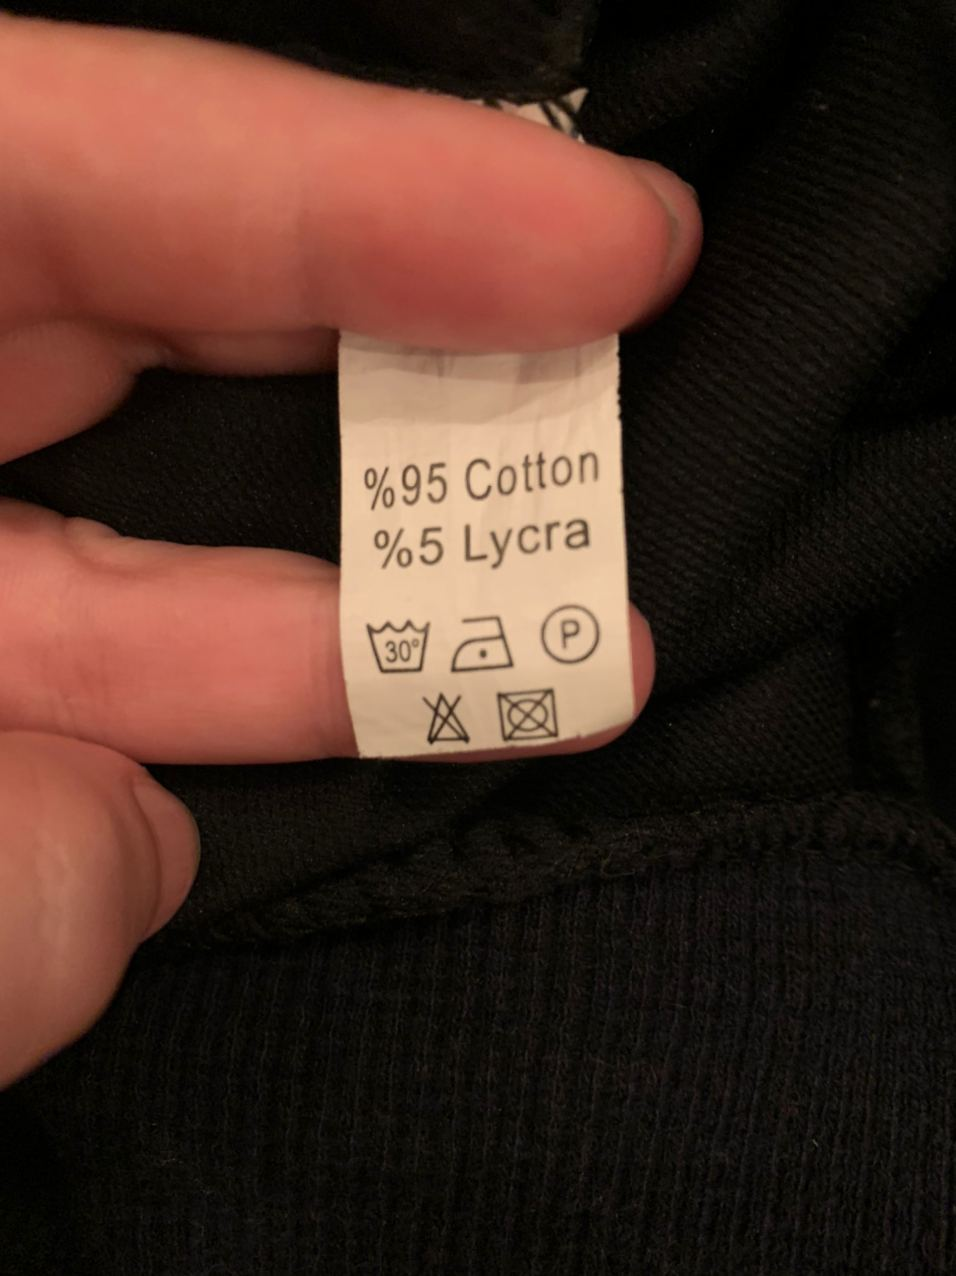do_not_bleach: (419, 684, 472, 752)
do_not_tumble_drying: (494, 678, 562, 747)
dry_clean_tetrachloroethylene_pce_only: (538, 600, 604, 670)
ironing_at_low_temp: (446, 611, 519, 681)
wash_at_or_below_30: (365, 613, 434, 680)
